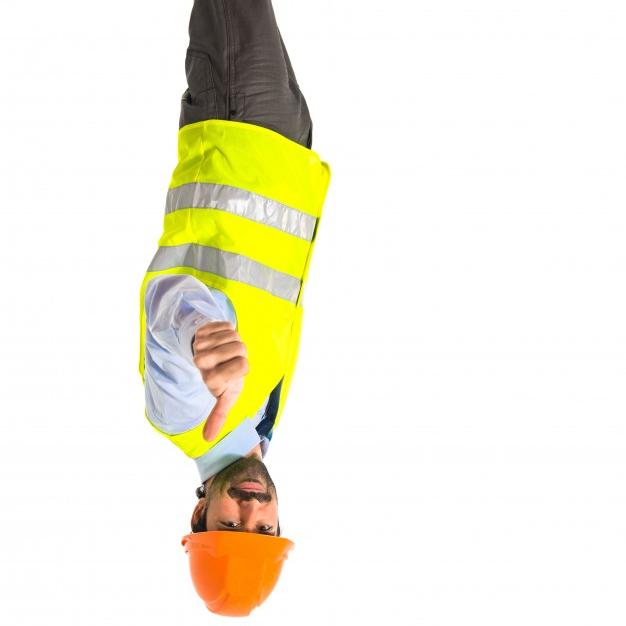thumbsdown: (192, 322, 250, 443)
